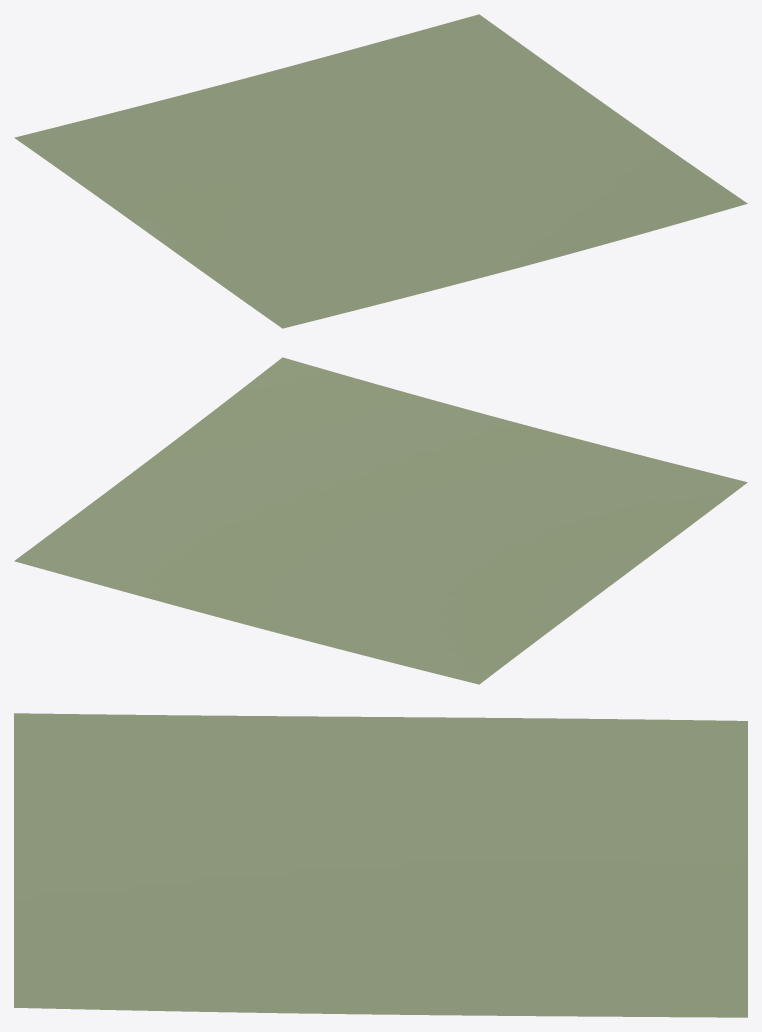
The model's file is expanse-22-0.glb.
The picture shows the model from 3 angles, top to bottom: view 1: azimuth 30°, elevation 25°; view 2: azimuth 150°, elevation 25°; view 3: azimuth 270°, elevation 25°; orthographic projection. The views are drawn at different scales.
Parts seen in each view (by area): view 1: expanse-22-0; view 2: expanse-22-0; view 3: expanse-22-0.
Boxes of the visible parts, bbox=[...] form: expanse-22-0: bbox=[14, 14, 747, 328]; expanse-22-0: bbox=[14, 357, 747, 684]; expanse-22-0: bbox=[14, 713, 747, 1017].
Size of the model in its own units: 256 by 9 by 256.
